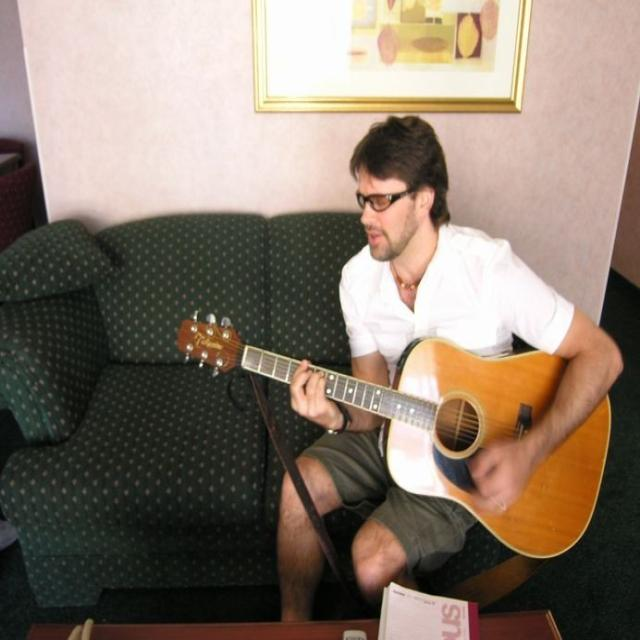guitar: (178, 310, 614, 562)
